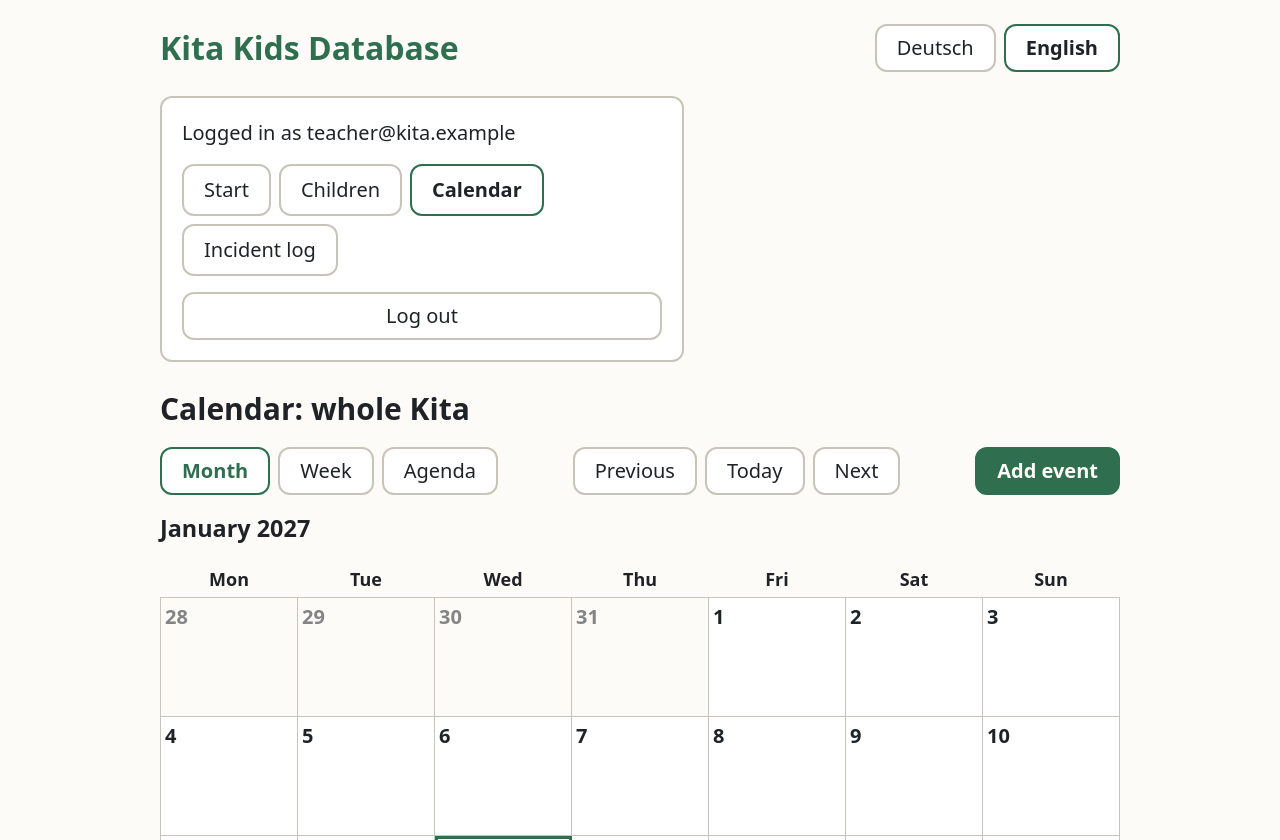
Test: Calendar › moves through months, weeks and the agenda
Click the button "Next" at (856, 471), box x1=812 y1=447 x2=900 y2=495
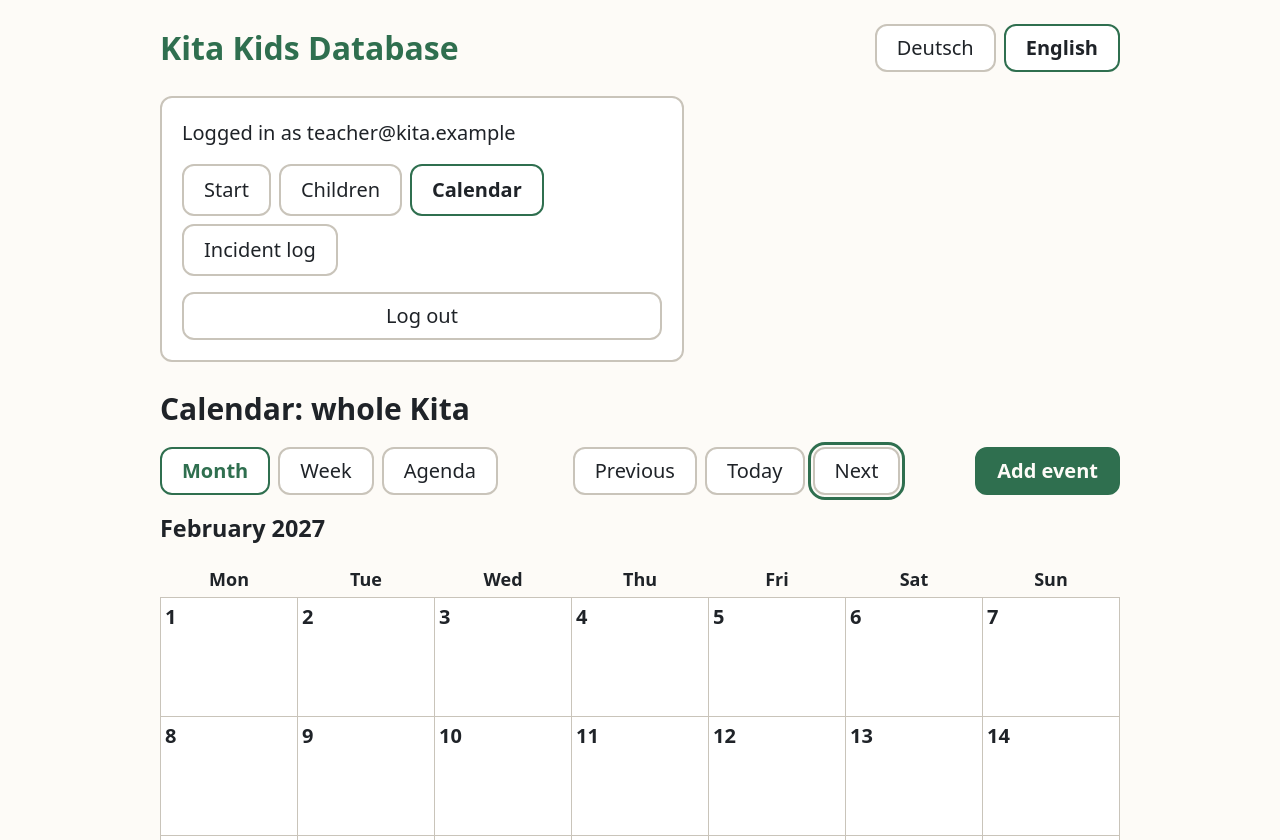
Click the button "Today" at (755, 471), box x1=705 y1=447 x2=804 y2=495
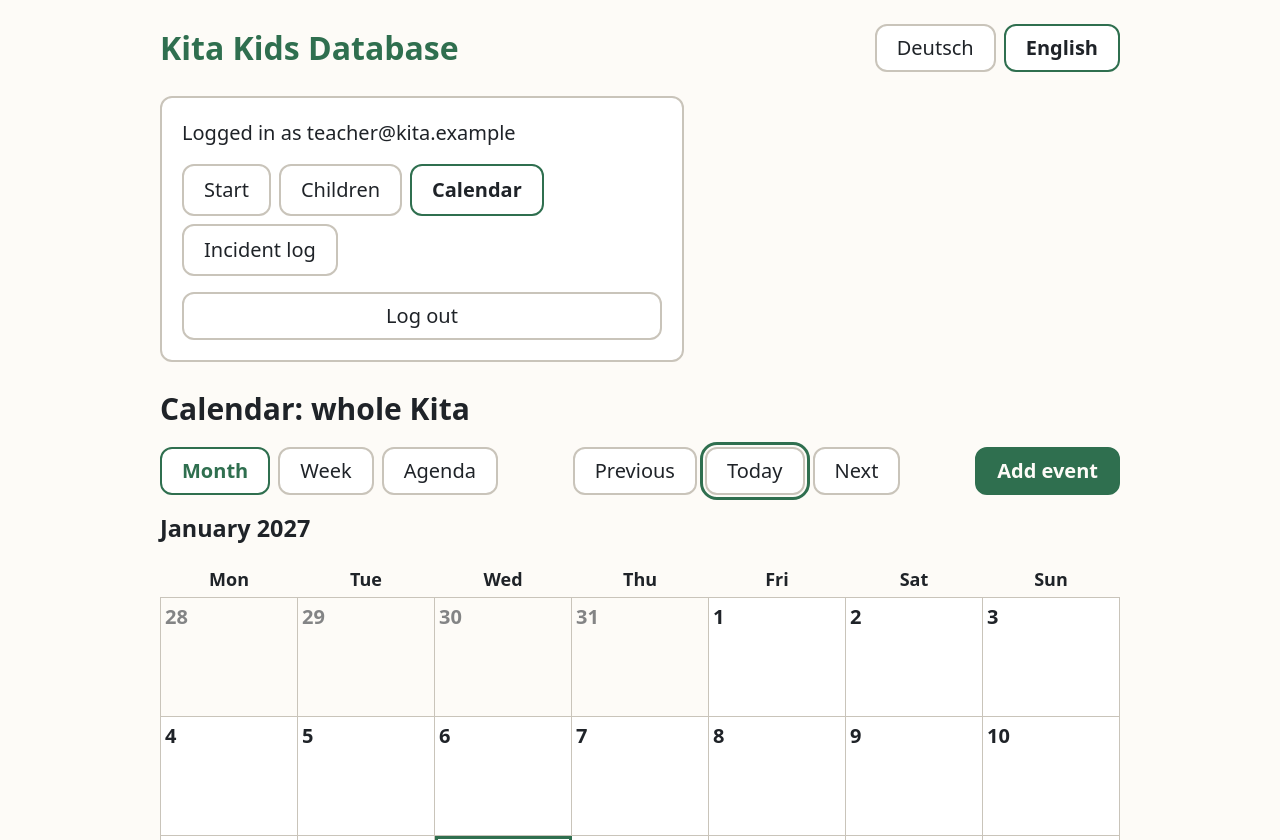
Click the button "Week" at (326, 471), box x1=278 y1=447 x2=374 y2=495
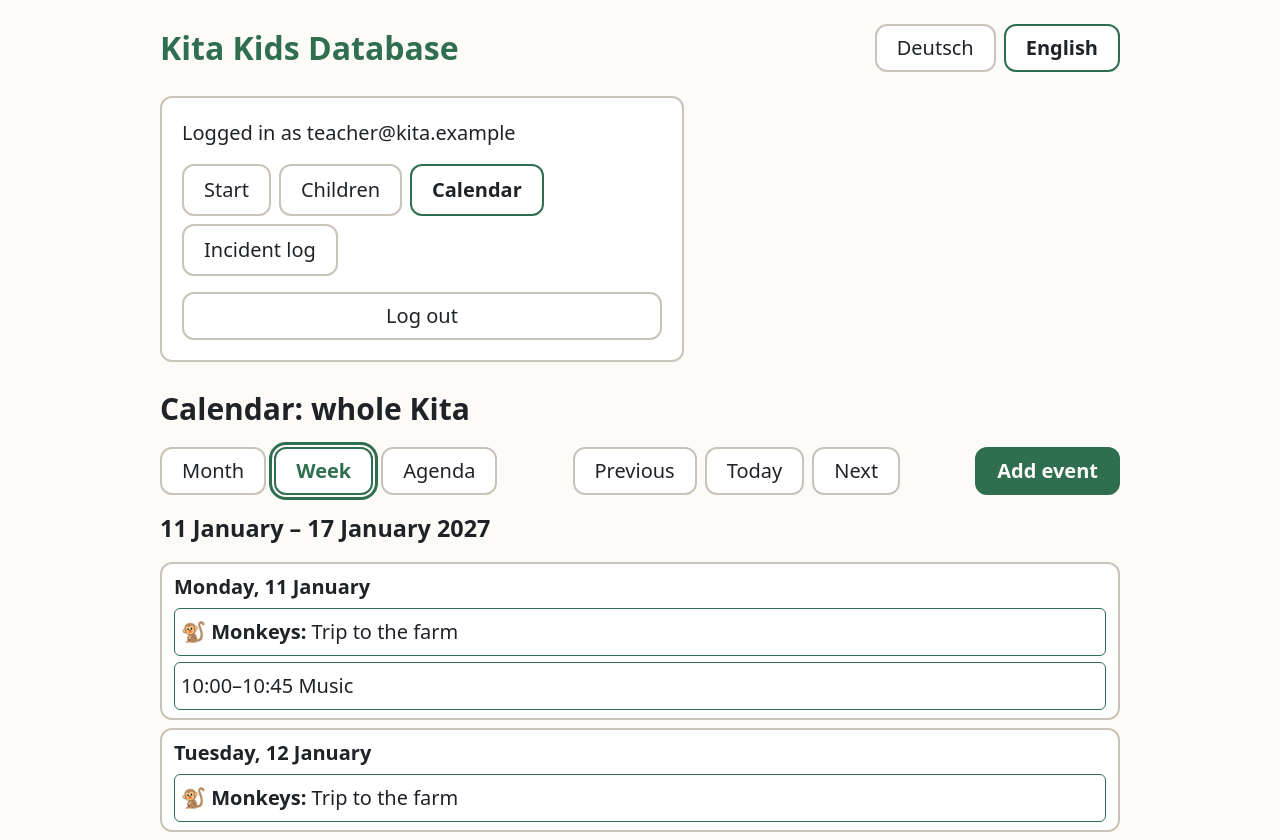
Now the buttons read "🐒 Monkeys: Trip to the farm", "10:00–10:45 Music", in this order, box x1=174 y1=608 x2=1106 y2=656; x1=174 y1=662 x2=1106 y2=710
Click the button "Agenda" at (439, 471), box x1=381 y1=447 x2=498 y2=495
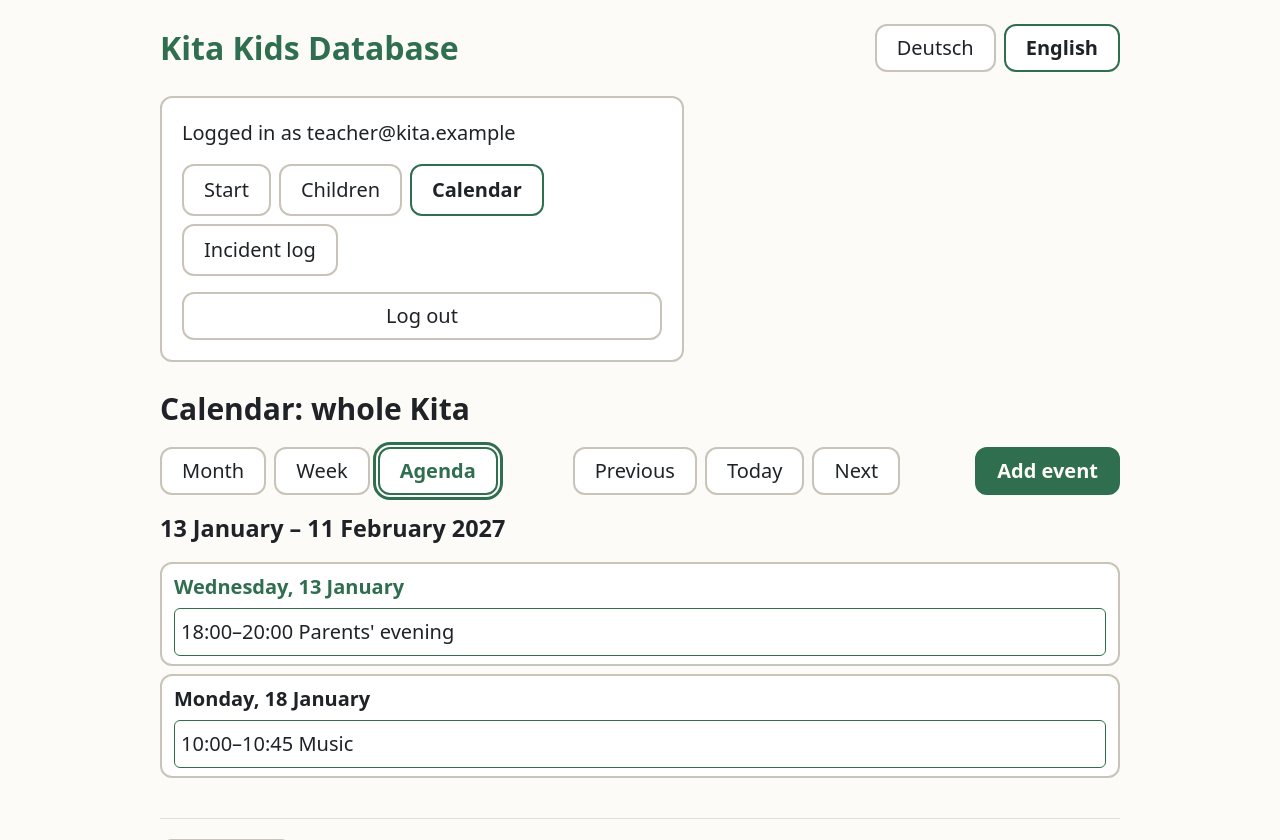
Now the element "Wednesday, 13 January" shows "Parents' evening", box x1=174 y1=608 x2=1106 y2=656
Now the element "Monday, 18 January" shows "Music", box x1=174 y1=720 x2=1106 y2=768
Click the button "Next" at (856, 471), box x1=812 y1=447 x2=900 y2=495
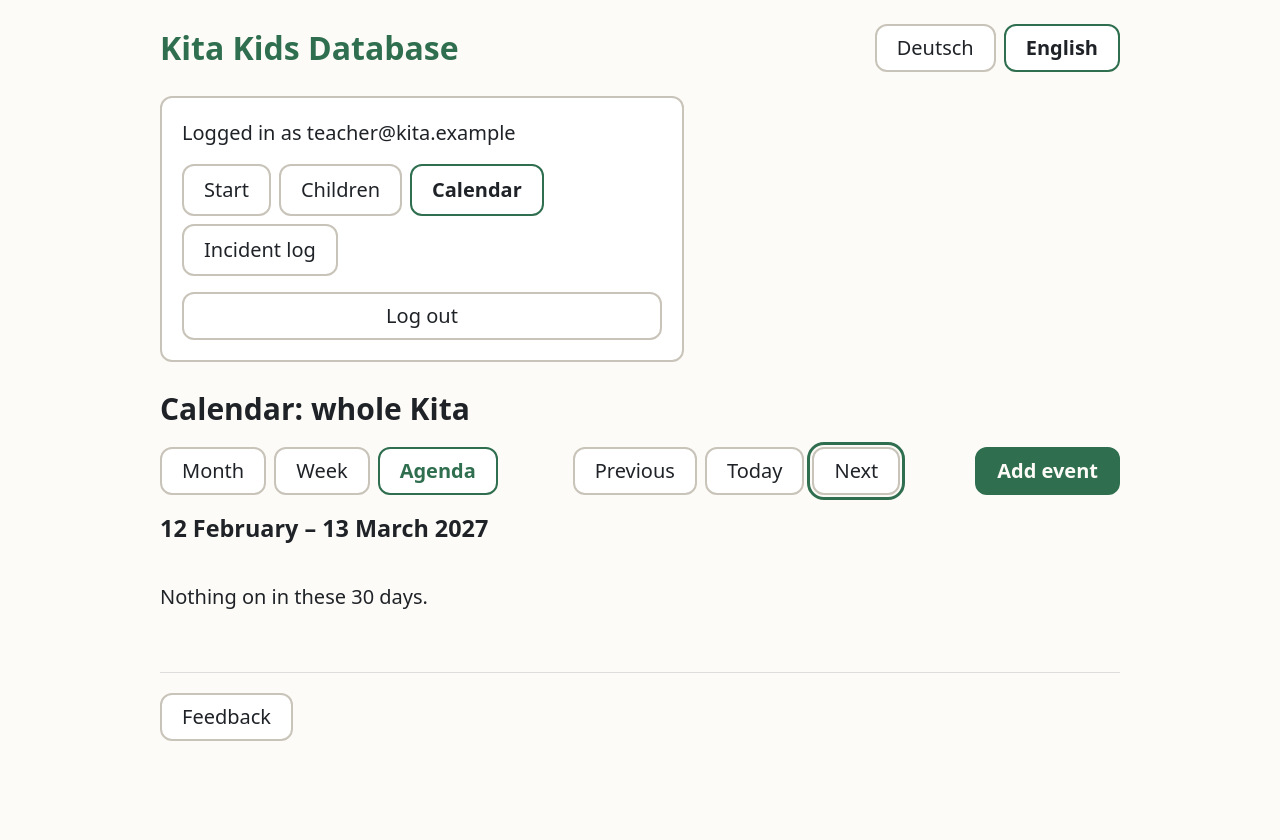
Now the text "Nothing on in these 30 days." is shown, box x1=160 y1=583 x2=428 y2=610
